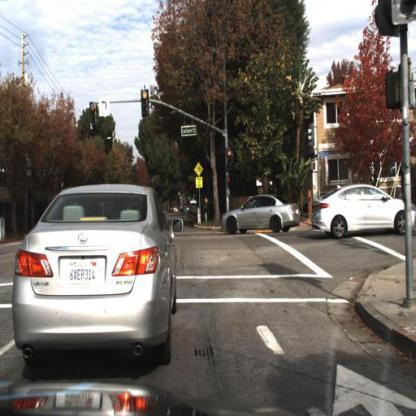car: (10, 184, 179, 364), (311, 182, 416, 239), (220, 194, 300, 236)
trafficLight-Red: (142, 91, 152, 125), (225, 151, 236, 178)
trafficLight-RedLeft: (88, 106, 99, 139)
